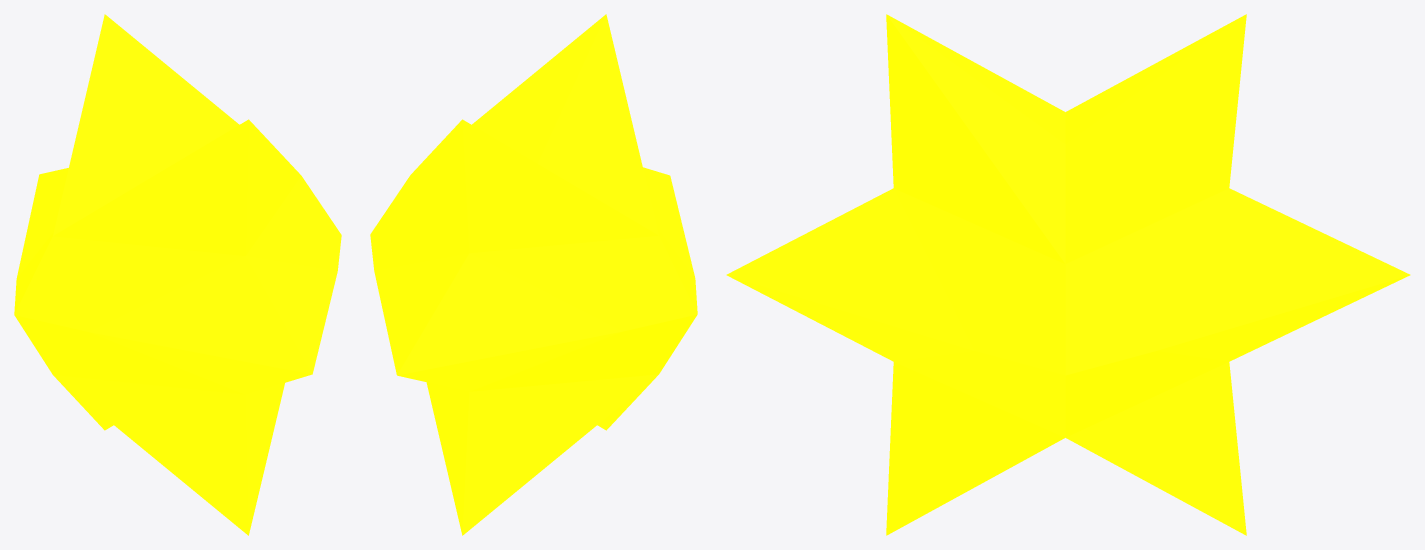
Rendered from odd_star_32.glb.
The picture shows the model from 3 angles, left to right: view 1: azimuth 30°, elevation 25°; view 2: azimuth 150°, elevation 25°; view 3: azimuth 270°, elevation 25°; orthographic projection. The views are drawn at different scales.
Visible parts, largest first — view 1: odd_star_32; view 2: odd_star_32; view 3: odd_star_32.
Part boxes in pixels (left/top/right/bottom): odd_star_32: left=14, top=14, right=341, bottom=535; odd_star_32: left=370, top=14, right=697, bottom=535; odd_star_32: left=726, top=14, right=1410, bottom=535.
Bounding box in the file's own units: 2.63 × 3.2 × 3.81.
